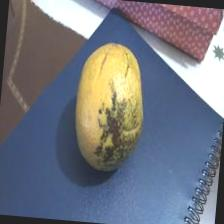Orange Rotten: (62, 31, 161, 190)
